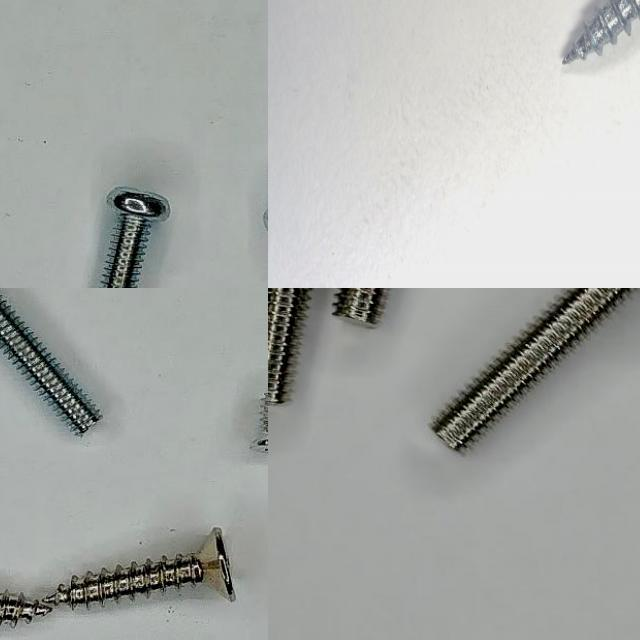Screw: (432, 288, 634, 450), (44, 528, 236, 608), (0, 294, 101, 434), (100, 188, 170, 288), (136, 544, 235, 597), (268, 288, 312, 403), (268, 288, 311, 404), (563, 0, 640, 63), (334, 288, 387, 325)
